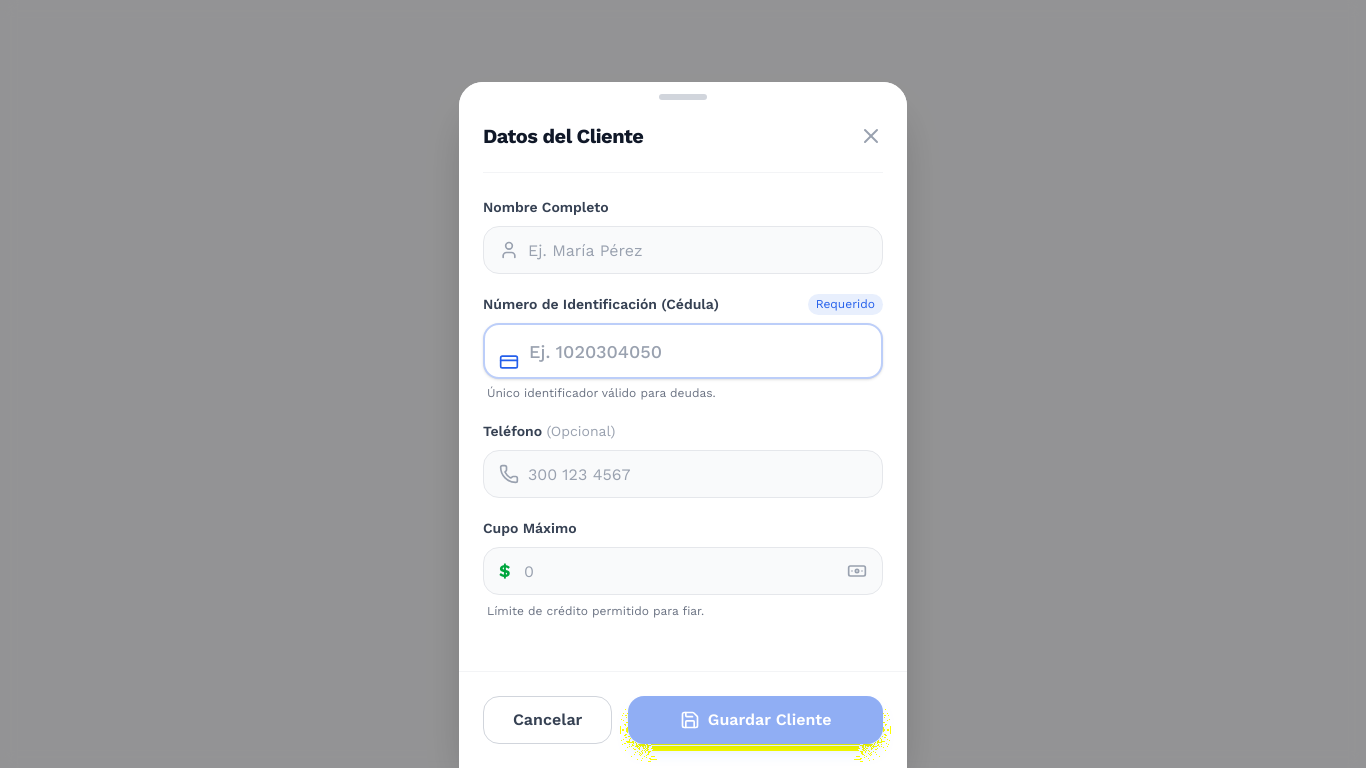
it: ClientFormModal.vue › validates fields and disables save button when name or cc is empty
Expected: the button "Guardar Cliente" is disabled, [628,696,883,744]
Type "Nico Gomez" into the field with placeholder "Ej. María Pérez".
click(683, 250); type("Nico Gomez")  # box [483,226,883,274]
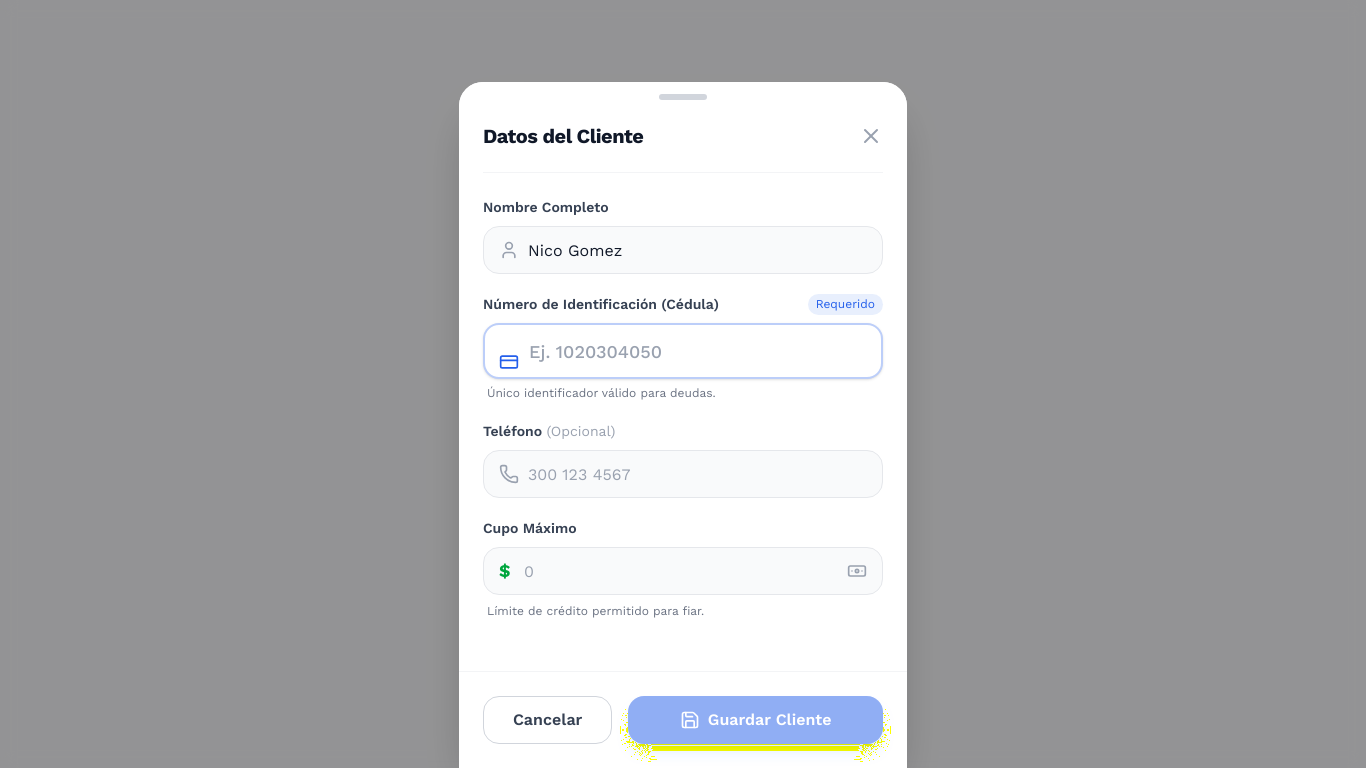
Type "98765432" into the field with placeholder "Ej. 1020304050".
click(683, 351); type("98765432")  # box [483,323,883,379]
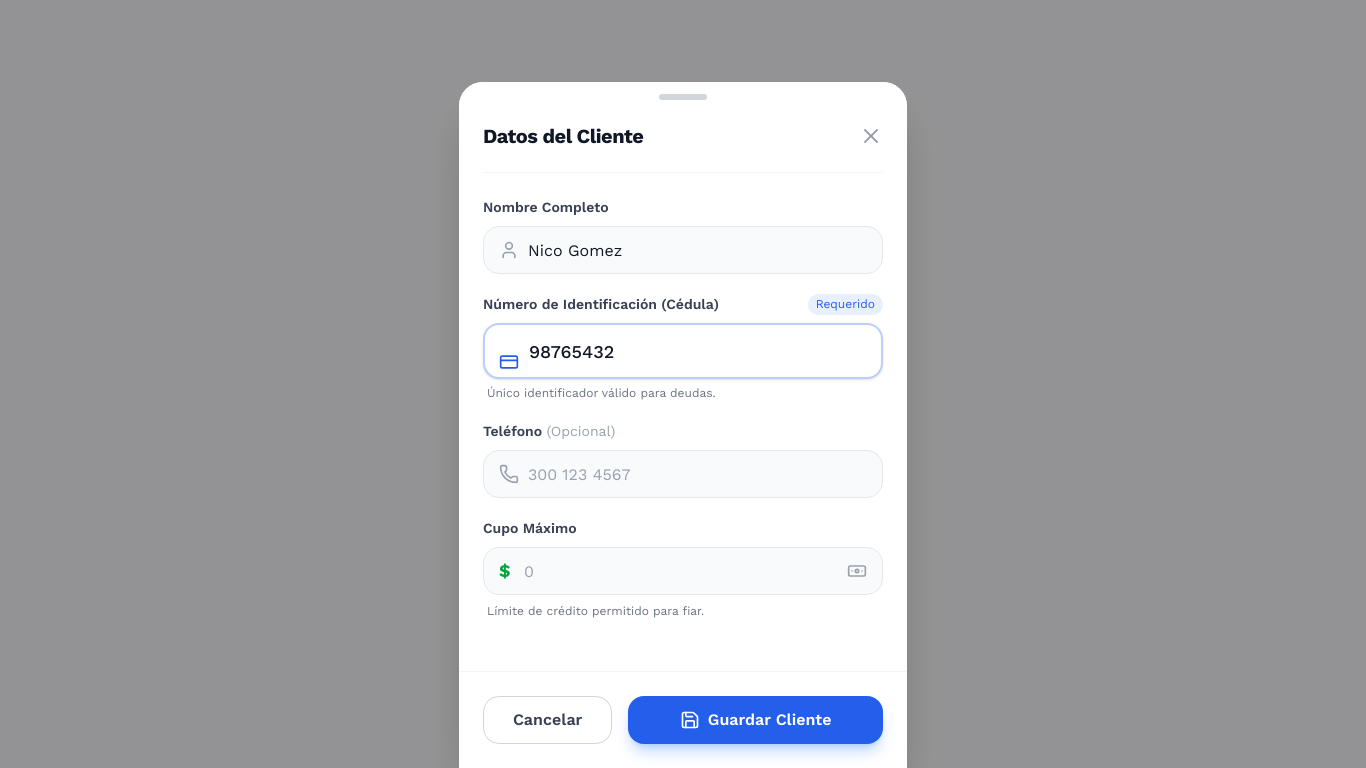
Expected: the button "Guardar Cliente" is enabled, [628,696,883,744]
